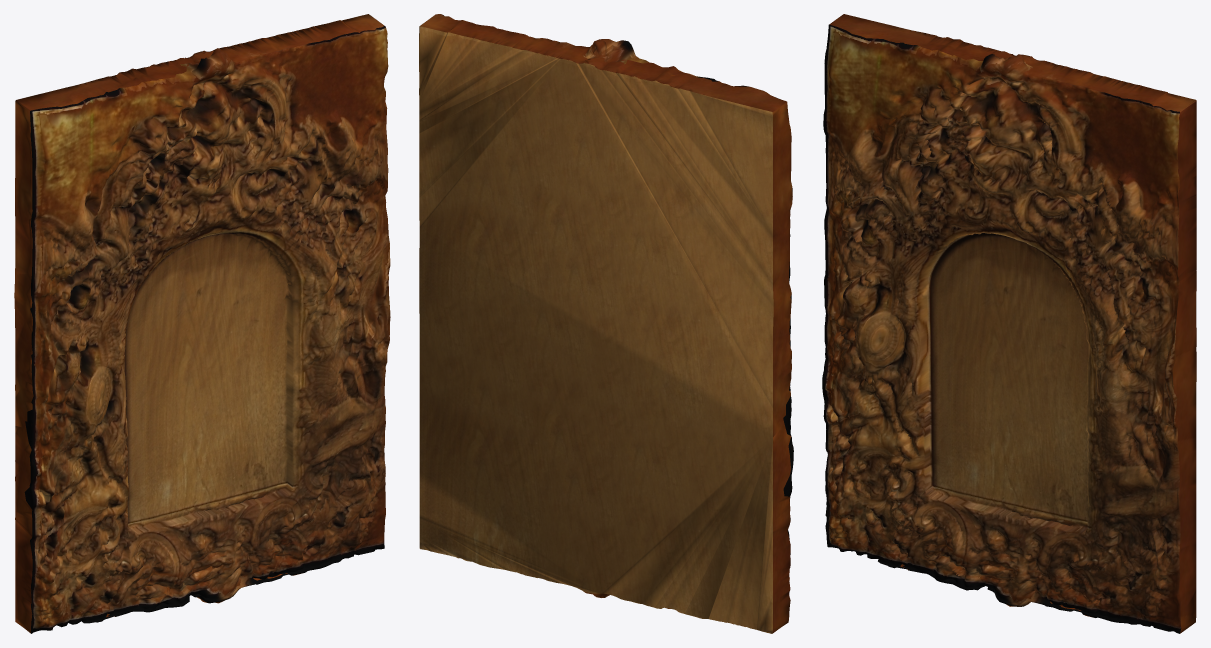
File: raam.glb
3 views of the same model, side by side, from view 1: azimuth 30°, elevation 25°; view 2: azimuth 150°, elevation 25°; view 3: azimuth 330°, elevation 25° (orthographic).
Parts seen in each view (by area): view 1: Mesh; view 2: Mesh; view 3: Mesh.
Part boxes in pixels (box(x1,y1,x2,y2)): Mesh: box(14, 14, 390, 633); Mesh: box(419, 14, 793, 633); Mesh: box(822, 14, 1196, 633).
Bounding box in the file's own units: 718 × 1062 × 110.
Materials: 1 (1 with a texture image).
